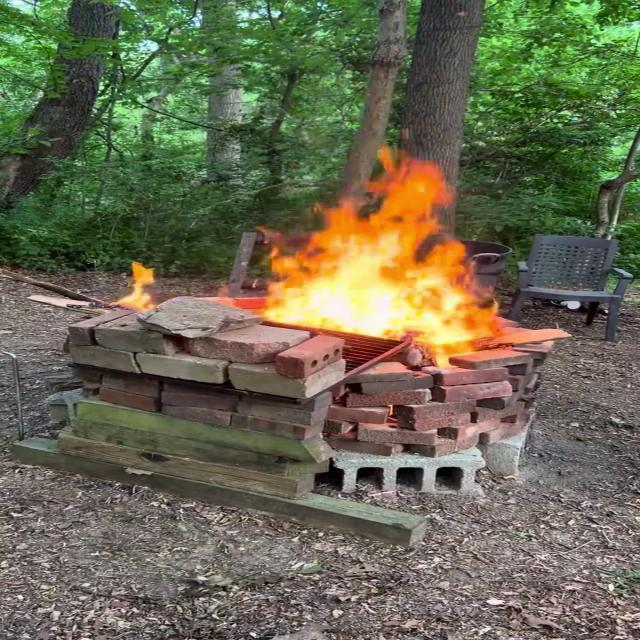Fire: (244, 142, 512, 362), (111, 256, 166, 312)
